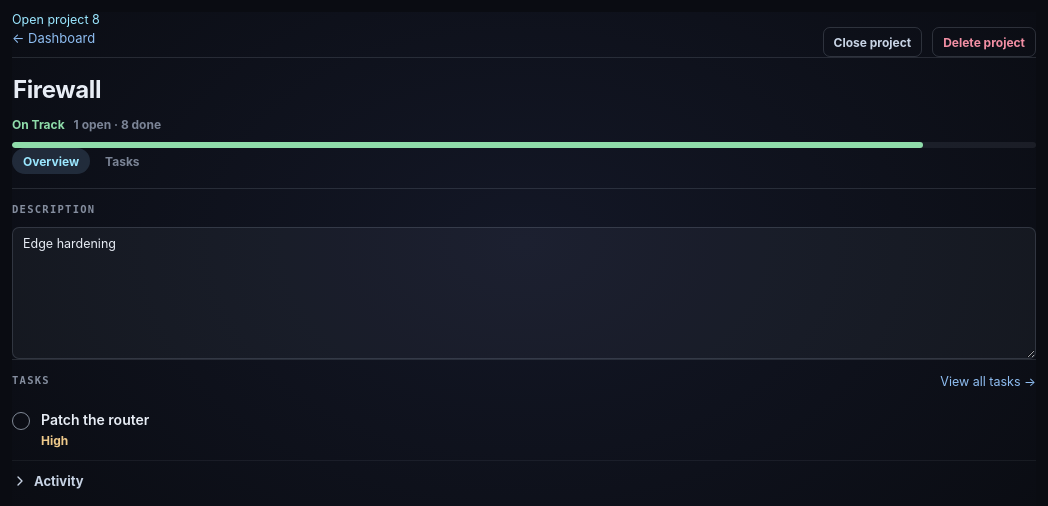
Test case: ProjectDetailPage › does not keep a stale done count when the new project’s request fails
Expected: the text "1 open · 8 done" is shown, [74,118,161,132]
Click the link "Open project 8". click: x=56, y=20
box: [12,12,100,27]
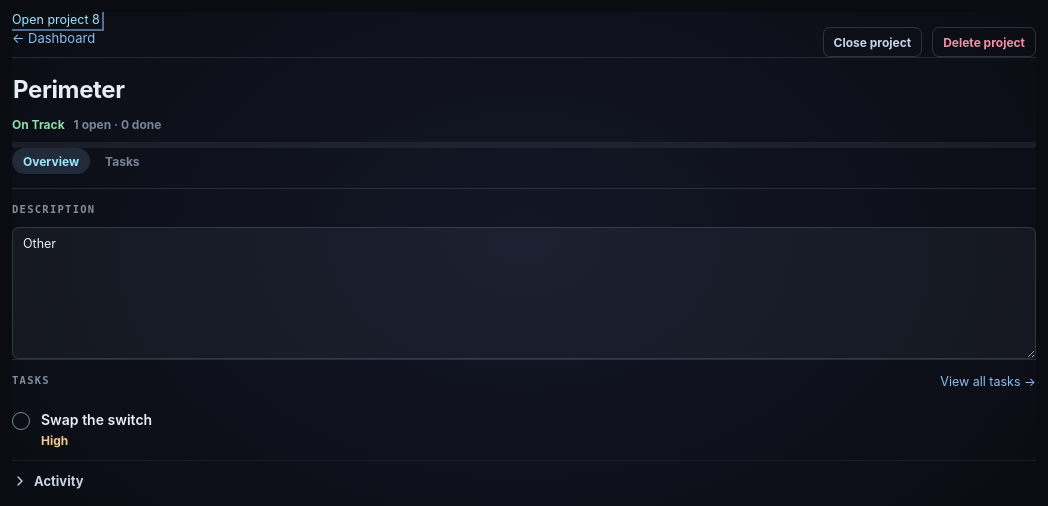
Now the field named "Project name" holds "Perimeter", box [12,72,1036,108]
Now the text "1 open · 0 done" is shown, box [74,118,161,132]
Now the text "1 open · 8 done" is gone
